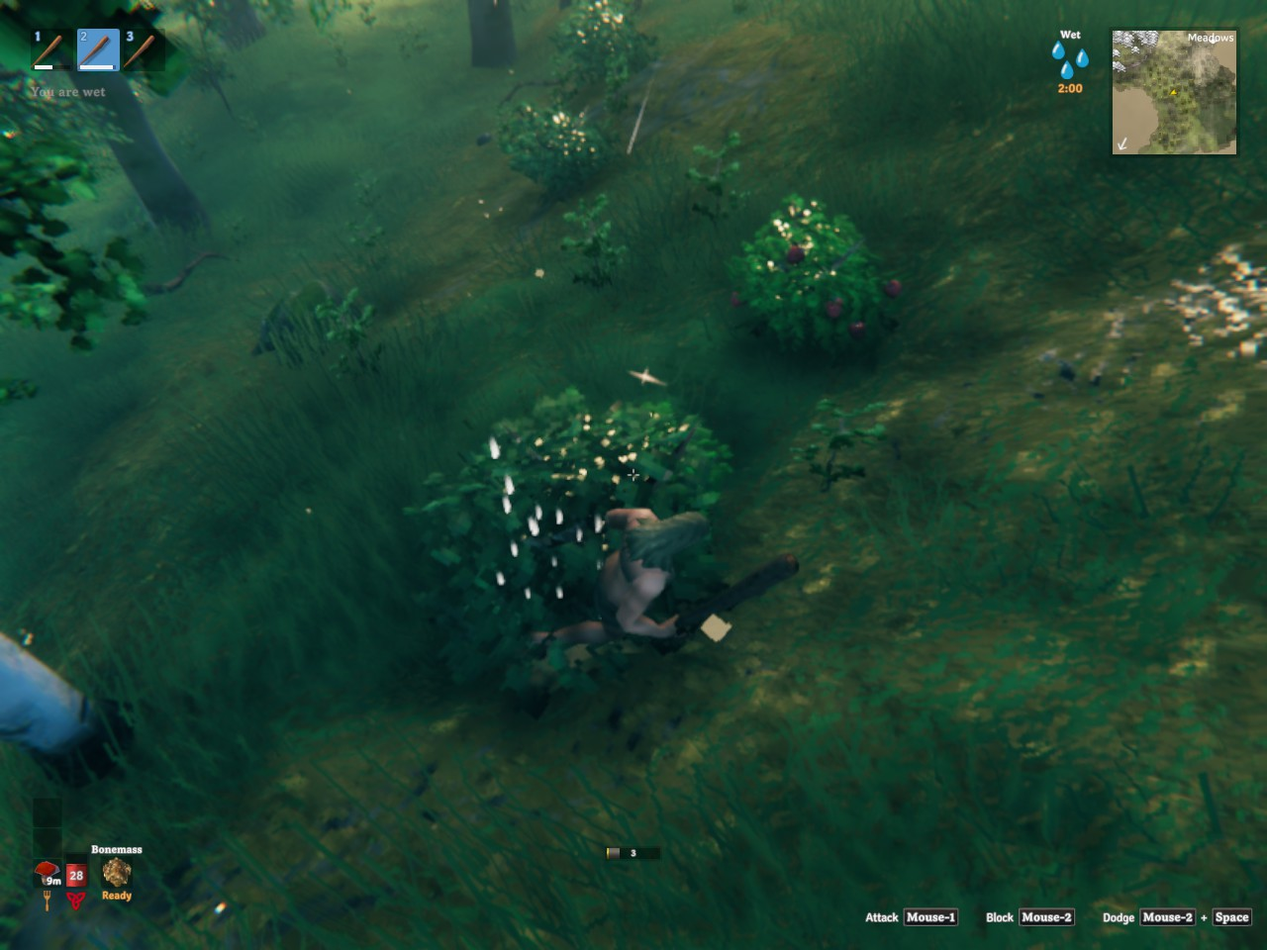Branch: (146, 252, 227, 295), (501, 80, 562, 103)
Food Indicator: (36, 797, 63, 891)
Health Bar: (63, 820, 90, 891)
Hotbar: (24, 21, 195, 80)
Raspberries: (734, 220, 908, 362)
Stamina Bar: (601, 841, 663, 863)
Status Indicator: (1024, 22, 1111, 100)
Stone: (475, 133, 493, 145)
